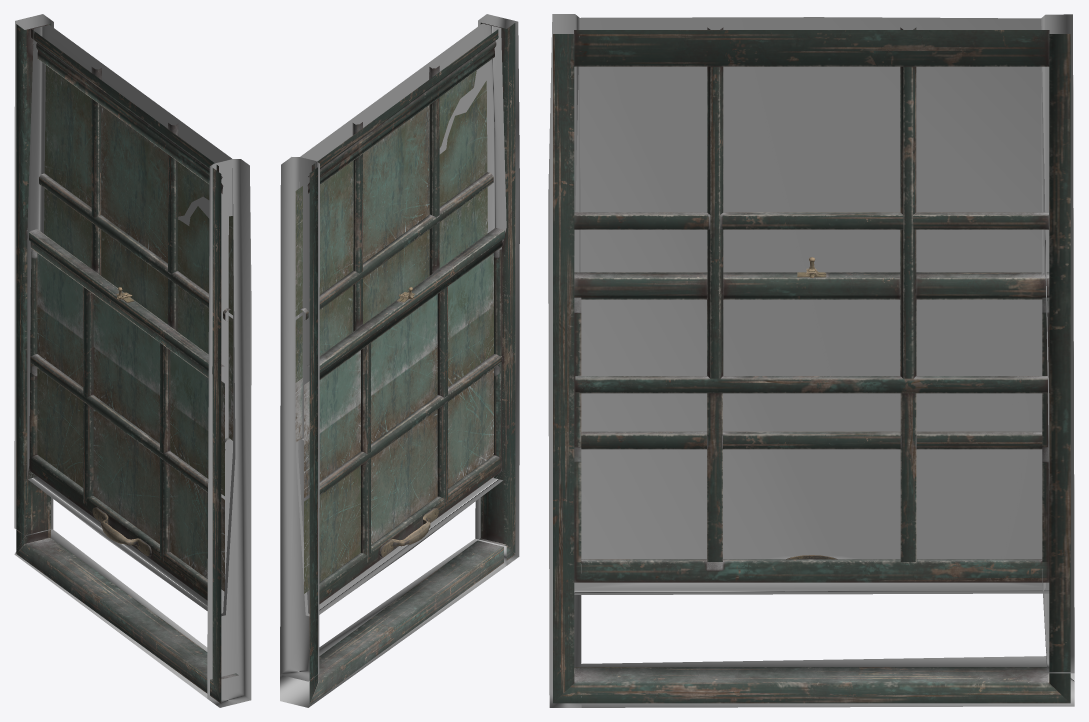
Rendered from SM_Window_Frame_02.gltf.
The picture shows the model from 3 angles, left to right: view 1: azimuth 30°, elevation 25°; view 2: azimuth 150°, elevation 25°; view 3: azimuth 270°, elevation 25°; orthographic projection. The views are drawn at different scales.
Visible parts, largest first — view 1: SM_Window_Frame_02_LOD0, SM_Window_Frame_02_ConvexHulls; view 2: SM_Window_Frame_02_LOD0, SM_Window_Frame_02_ConvexHulls; view 3: SM_Window_Frame_02_ConvexHulls, SM_Window_Frame_02_LOD0.
Part boxes in pixels (x1,y1,x2,y2): SM_Window_Frame_02_LOD0: (16, 23, 238, 703); SM_Window_Frame_02_ConvexHulls: (14, 14, 251, 707); SM_Window_Frame_02_LOD0: (295, 22, 515, 704); SM_Window_Frame_02_ConvexHulls: (280, 14, 519, 707); SM_Window_Frame_02_ConvexHulls: (548, 14, 1074, 707); SM_Window_Frame_02_LOD0: (553, 27, 1070, 703).
Size of what is drawn, in the model's own units: 0.1778 by 2.39 by 1.69.
